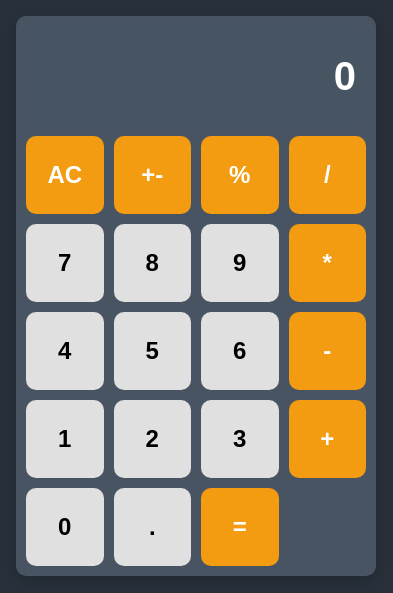
it: Calculator App › handles division by zero with an error message
Click the button "5" at (152, 351), box x1=114 y1=312 x2=191 y2=390
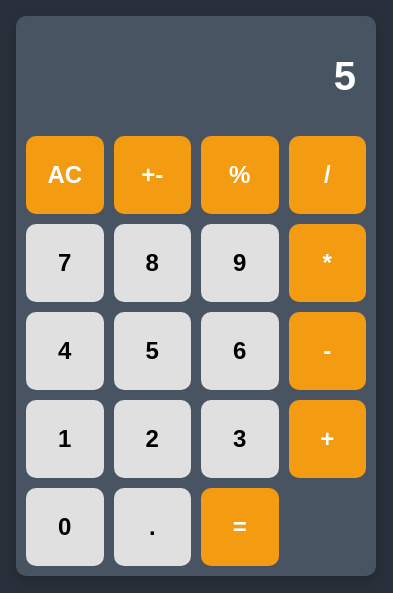
Click the button "/" at (327, 175), box x1=288 y1=136 x2=366 y2=214
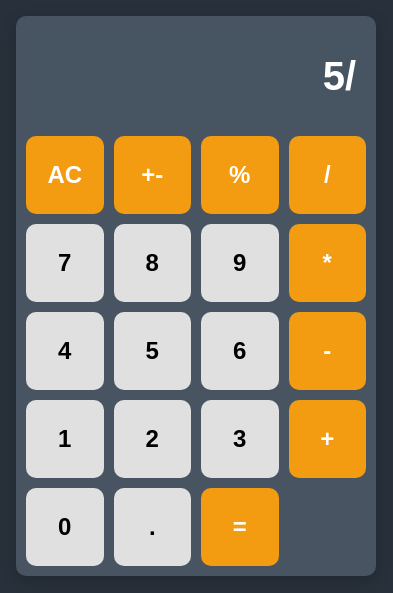
Click the button "0" at (65, 527), box x1=26 y1=488 x2=104 y2=566
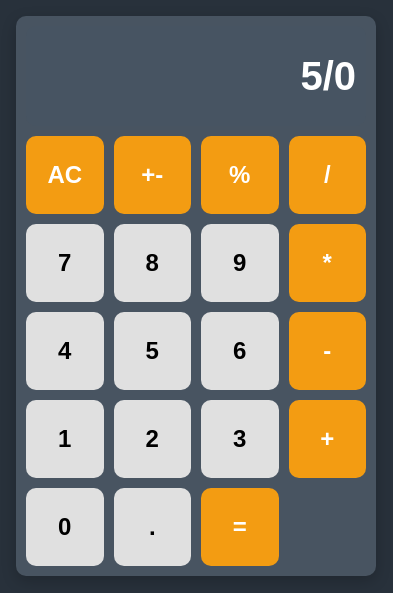
Click the button "=" at (240, 527), box x1=201 y1=488 x2=278 y2=566
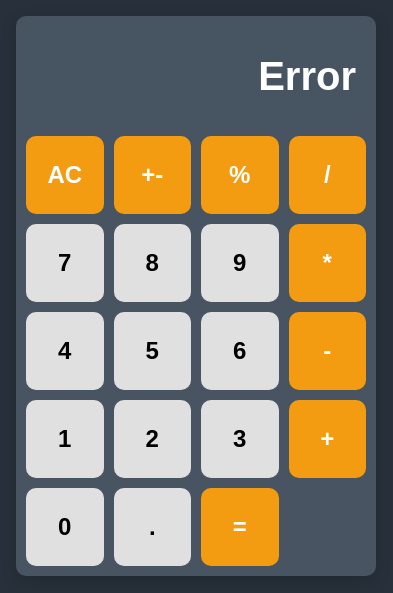
expect the text "Error" is shown: met, box x1=26 y1=26 x2=366 y2=126
